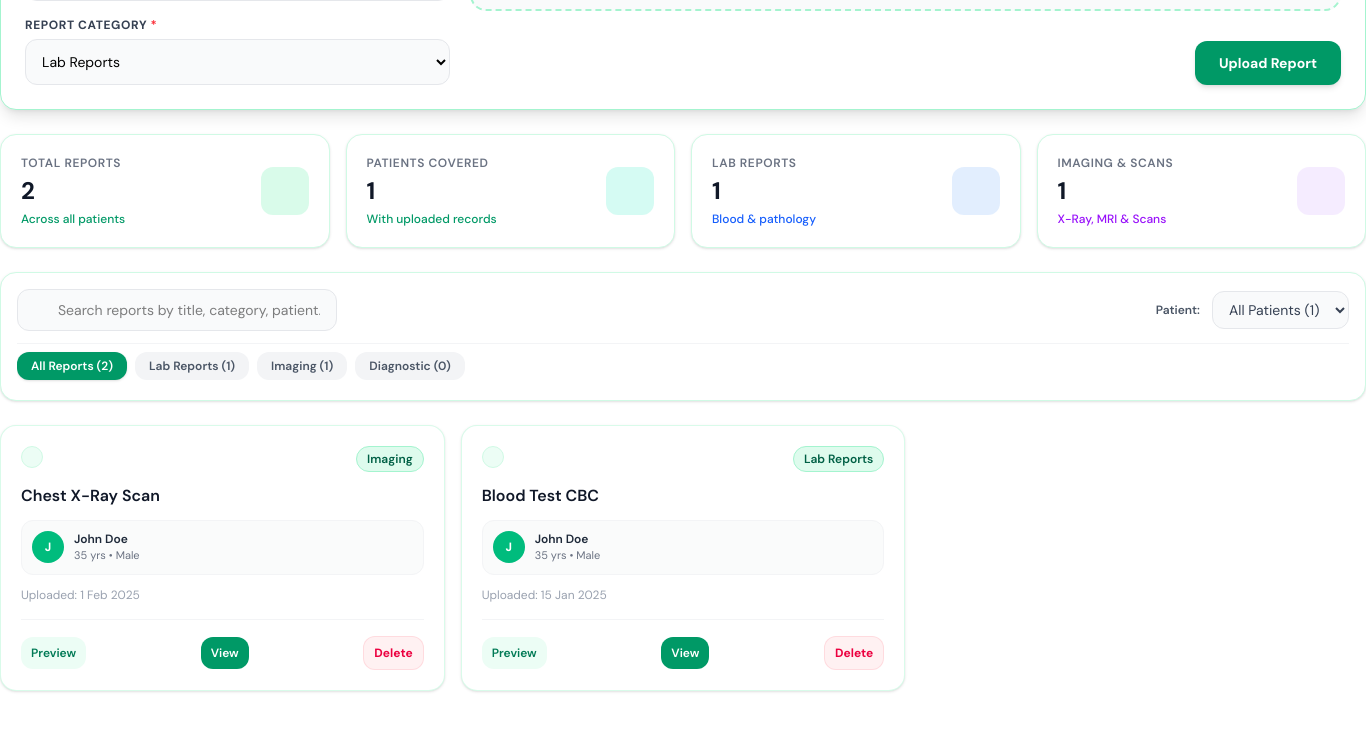
Scenario: ReportsTab Component › opens delete confirmation modal when Delete button is clicked
(page scrolled)
Expected: the heading "Blood Test CBC" is shown, top-left (482, 485), bottom-right (599, 506)
Click the button "Delete" below "1 Feb 2025": {"x": 393, "y": 652} top-left (363, 636), bottom-right (424, 670)
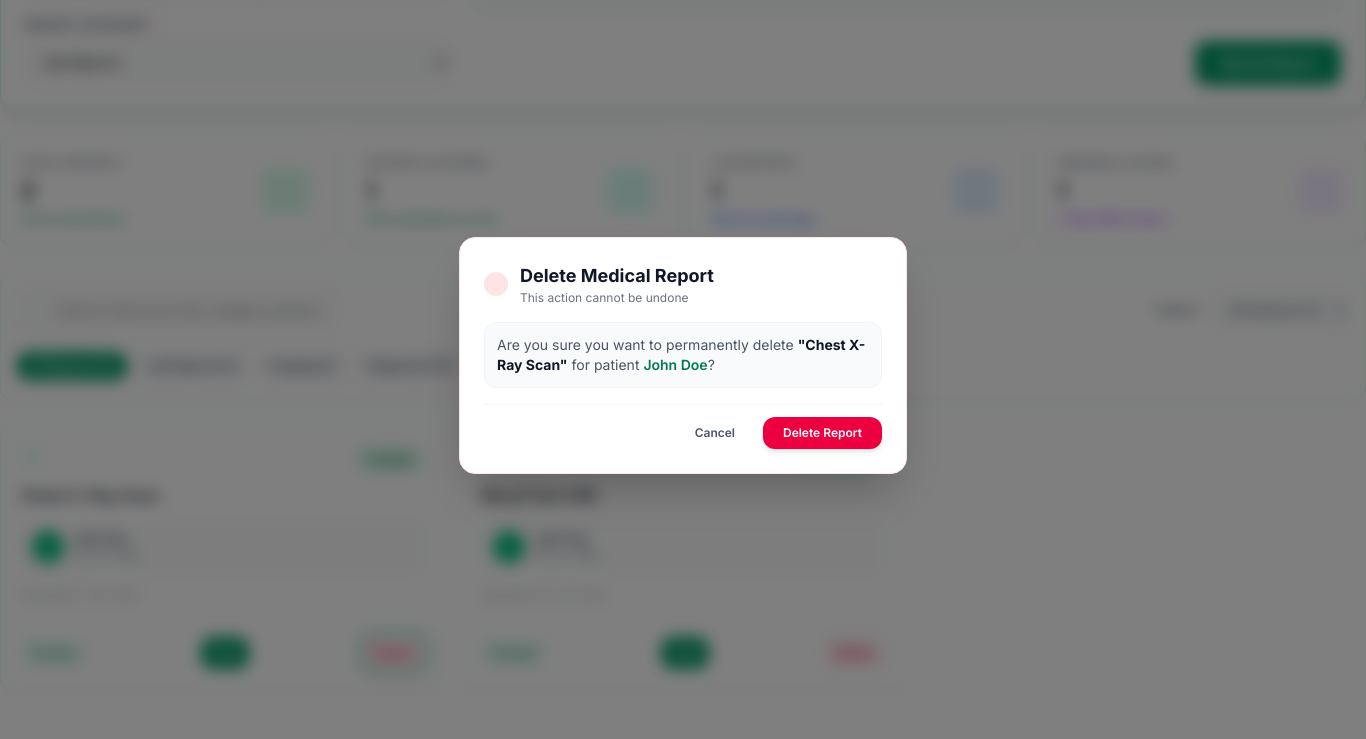
Expected: the text "Are you sure you want to permanently delete" is shown, top-left (497, 336), bottom-right (798, 352)
